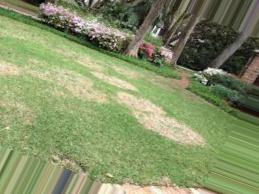patch: (50, 67, 96, 98), (1, 91, 36, 118), (120, 88, 149, 118), (102, 64, 129, 86), (153, 111, 175, 137), (62, 53, 97, 66), (1, 57, 19, 82), (179, 124, 196, 145)
